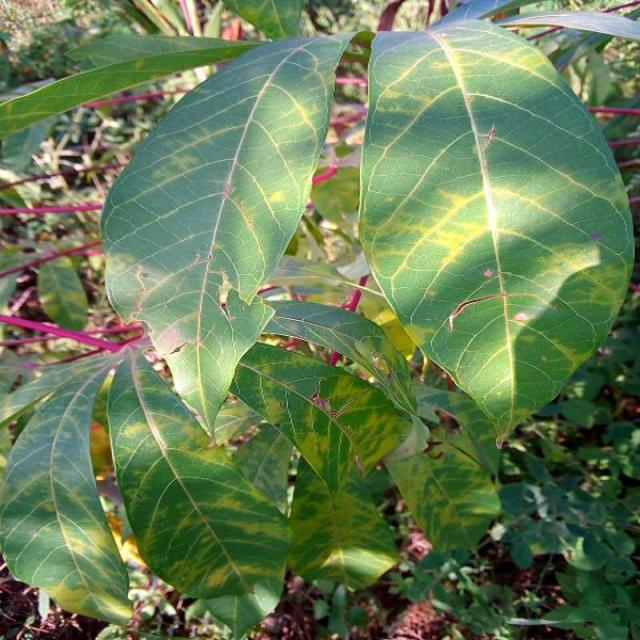cassava leaf: (357, 16, 634, 445), (98, 28, 359, 438), (105, 344, 292, 636), (0, 352, 133, 627)
